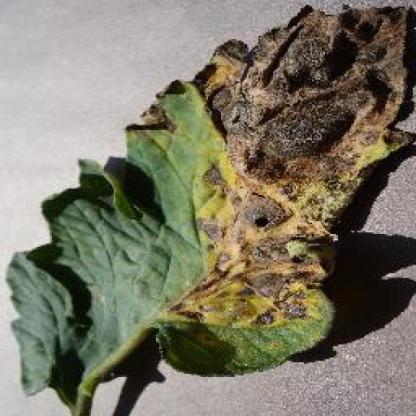Tomato_Blight: (16, 9, 408, 393)
